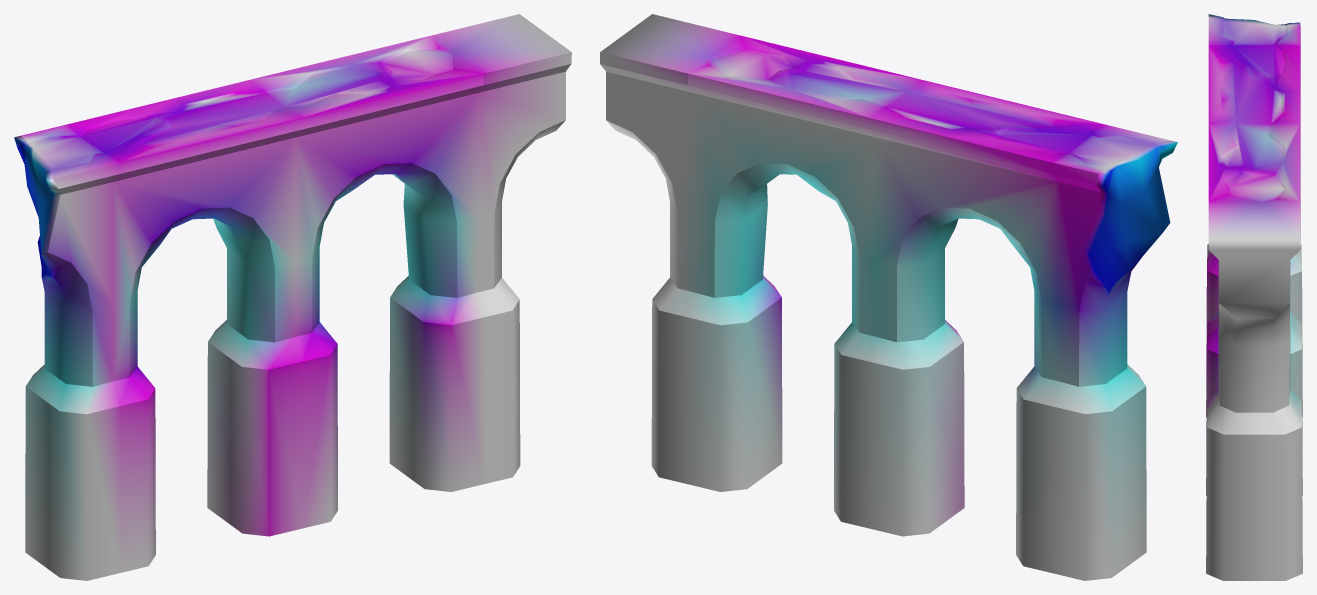
The model's file is road.fbx.
The picture shows the model from 3 angles, left to right: view 1: azimuth 30°, elevation 25°; view 2: azimuth 150°, elevation 25°; view 3: azimuth 270°, elevation 25°; orthographic projection. The views are drawn at different scales.
Visible parts, largest first — view 1: Cube_120; view 2: Cube_120; view 3: Cube_120.
Boxes of the visible parts, x1,y1,x2,y2 form: Cube_120: [14, 14, 571, 580]; Cube_120: [600, 14, 1177, 580]; Cube_120: [1206, 14, 1302, 580].
Size of the model in its own units: 175 by 131 by 31.83.
